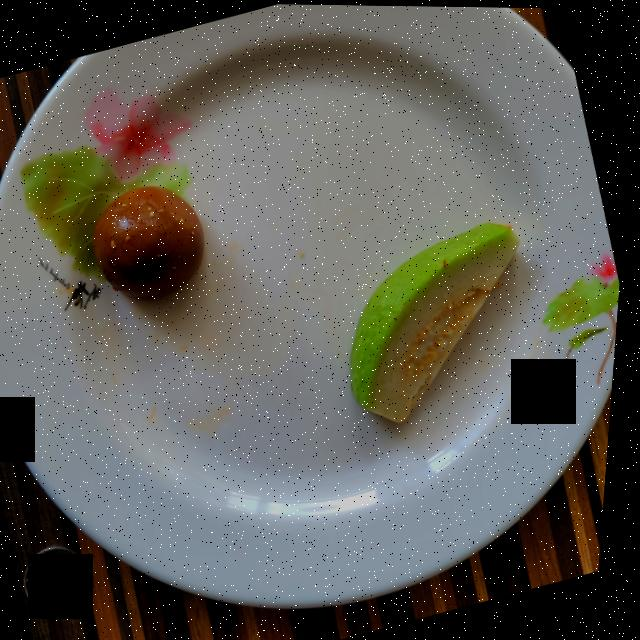coin: (32, 545, 97, 611)
guava -sliced-: (356, 220, 522, 421)
soy egg: (96, 185, 208, 298)
